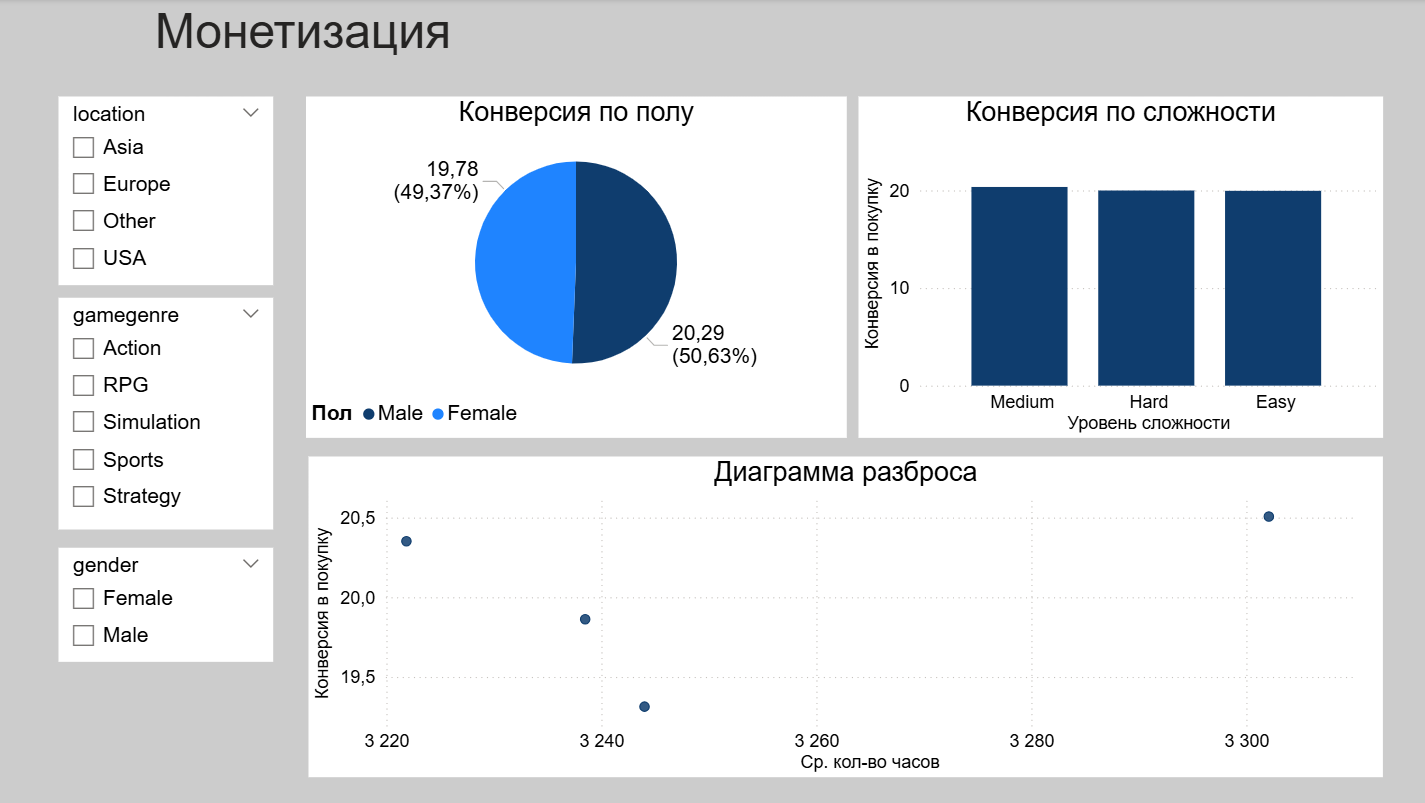

Layout of this report page (visuals, bound fields, positions):
{"tool":"powerbi","page":{"name":"Страница 3","canvas":[1280,720],"ordinal":2},"visuals":[{"type":"textbox","box":[0,0,558.5,104.3],"z":0},{"type":"pieChart","title":"Конверсия по полу","fields":{"Category":["public powerbi_dashboard.gender"],"Y":["Меры.Purchase Conversion %"]},"box":[275.7,87.1,481.4,304.3],"z":1000},{"type":"clusteredColumnChart","title":"Конверсия по сложности","fields":{"Category":["public powerbi_dashboard.gamedifficulty"],"Y":["Меры.Purchase Conversion %"]},"box":[768.6,87.1,467.1,304.3],"z":2000},{"type":"scatterChart","title":"Диаграмма разброса","fields":{"X":["Sum(public powerbi_dashboard.avg_playtime_hours)"],"Y":["Меры.Purchase Conversion %"],"Category":["public powerbi_dashboard.location"]},"box":[278.6,407.1,957.1,285.7],"z":3000},{"type":"slicer","fields":{"Values":["public powerbi_dashboard.location"]},"box":[55.6,86.9,191,168.2],"z":4000},{"type":"slicer","fields":{"Values":["public powerbi_dashboard.gamegenre"]},"box":[55.6,266.5,191,206.7],"z":5000},{"type":"slicer","fields":{"Values":["public powerbi_dashboard.gender"]},"box":[55.6,488.9,191,101.2],"z":6000}]}

Visuals, with their boxes in screenshot pixels (x1, y1, x2, y2), scaled from the page's 1280x720 canvas onto the 1425x803 screenshot:
textbox: [0,0,622,116]
"Конверсия по полу" pieChart: [307,97,843,437]
"Конверсия по сложности" clusteredColumnChart: [856,97,1376,437]
"Диаграмма разброса" scatterChart: [310,454,1376,773]
slicer - public powerbi_dashboard.location: [62,97,275,285]
slicer - public powerbi_dashboard.gamegenre: [62,297,275,528]
slicer - public powerbi_dashboard.gender: [62,545,275,658]
